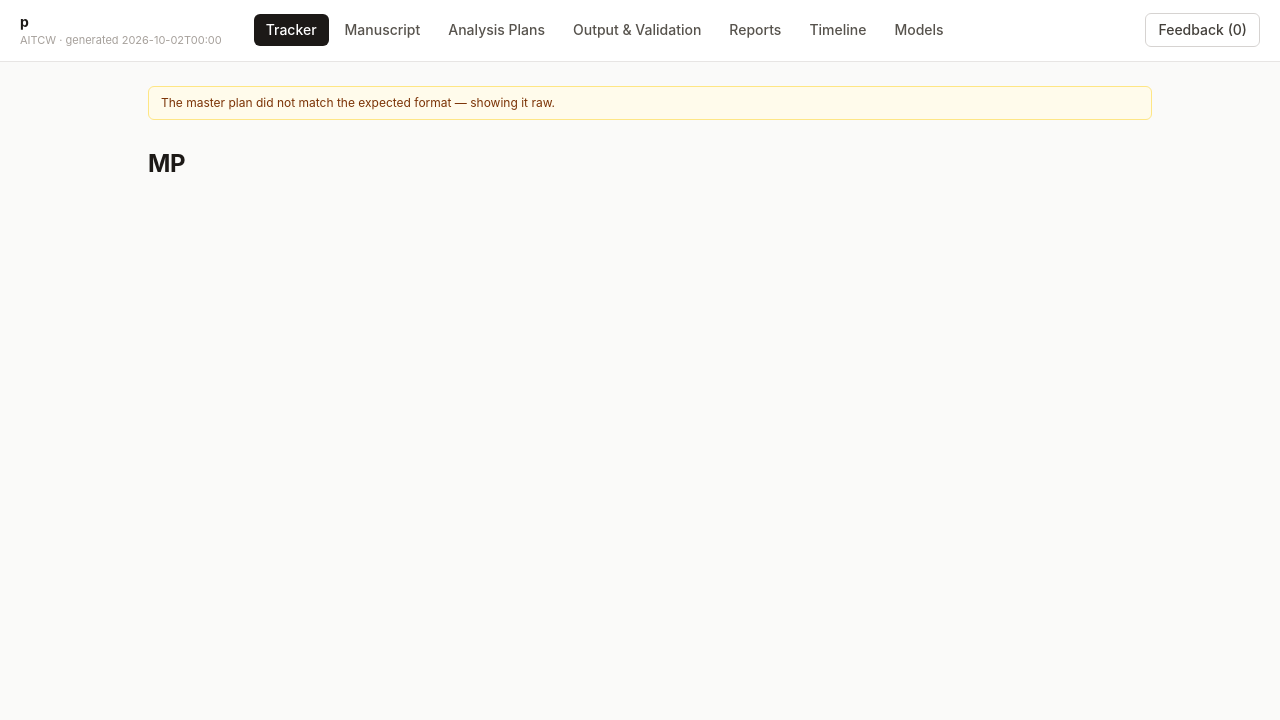
it: sent comment highlights › a non-roster hosted board shows sent comments read-only
Click the button "Manuscript": (382, 30) 333,14 -> 432,46
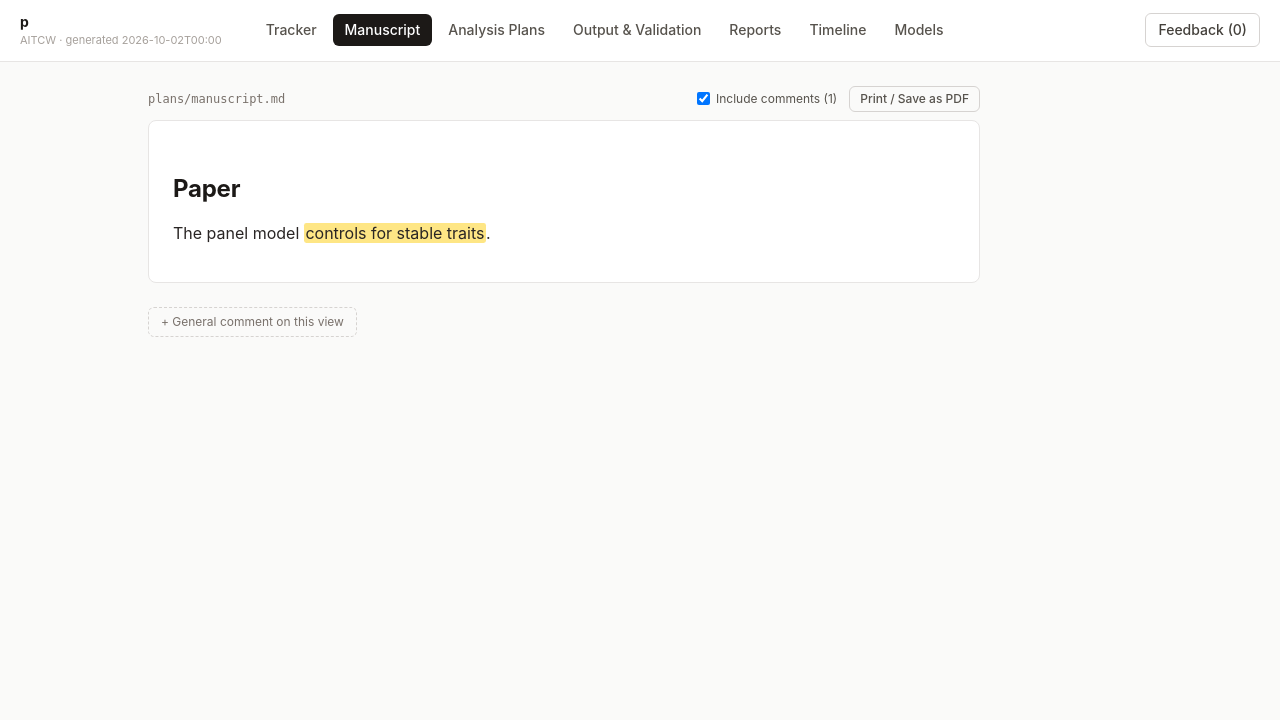
Click the text "controls for stable traits": (395, 233) 304,223 -> 486,243
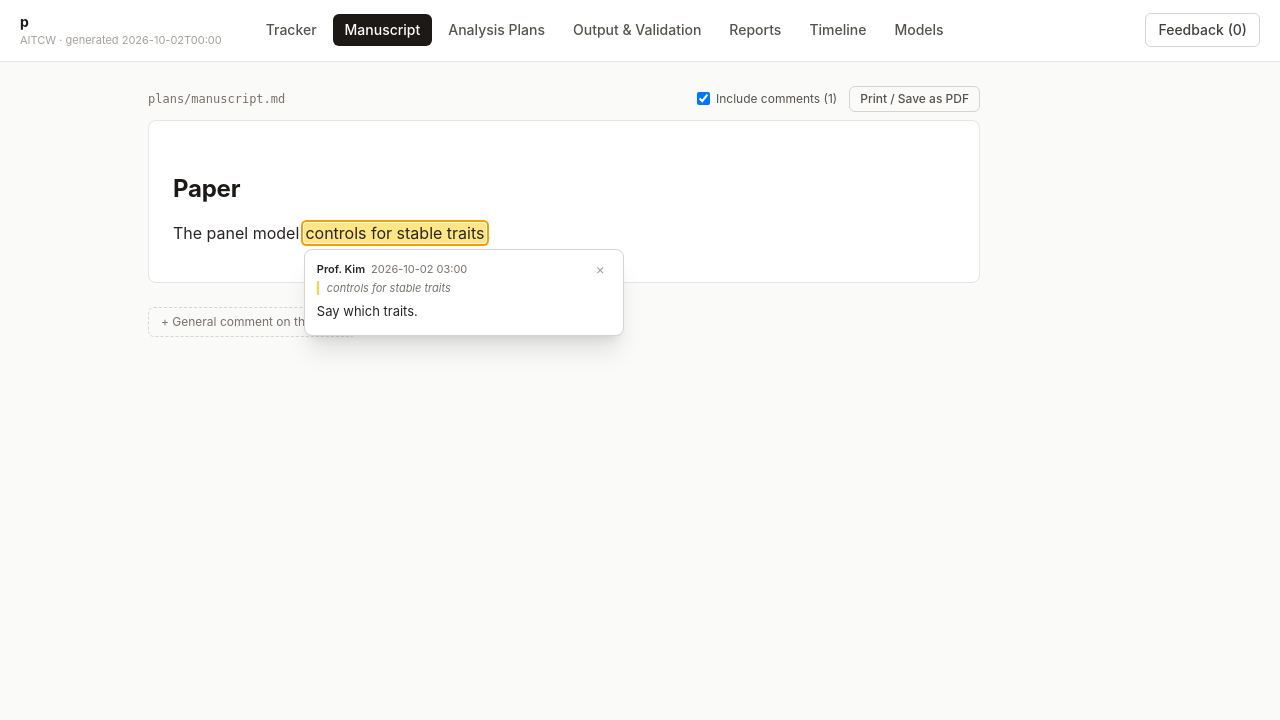
Expected: the dialog named "Comment" is shown, 304,249 -> 624,336
